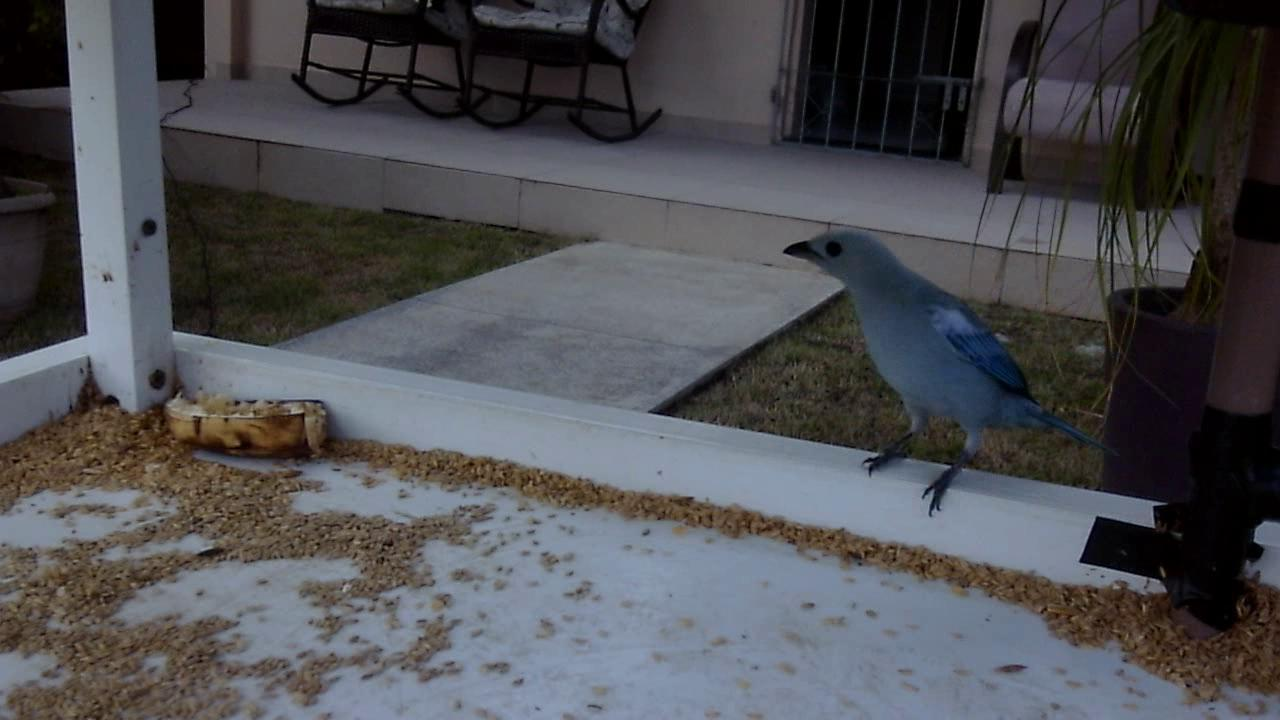sanhaco_da_amazonia: (778, 223, 1108, 527)
